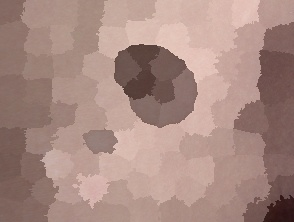vitiligo: (66, 23, 241, 182)
